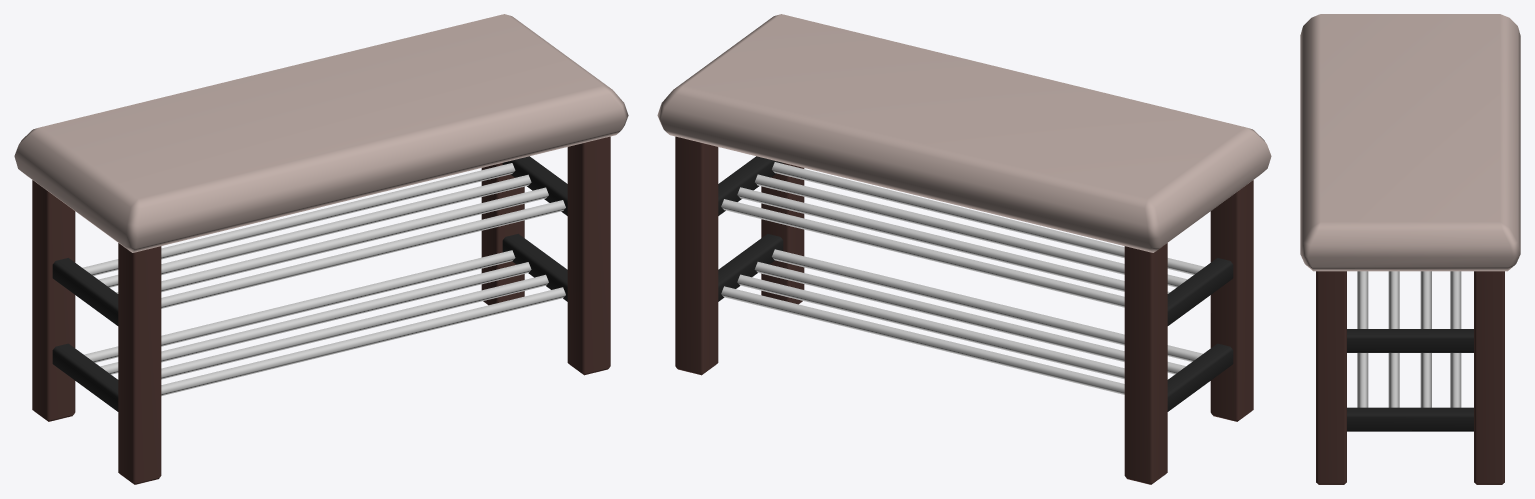
Rendered from chair_056.fbx.
3 renders of one model, left to right at view 1: azimuth 30°, elevation 25°; view 2: azimuth 150°, elevation 25°; view 3: azimuth 270°, elevation 25°, orthographic. The views are drawn at different scales.
Parts seen in each view (by area): view 1: chair_056; view 2: chair_056; view 3: chair_056.
Part boxes in pixels (<box>): chair_056: <box>14,14,628,484</box>; chair_056: <box>657,14,1271,484</box>; chair_056: <box>1300,14,1520,484</box>.
Bounding box in the file's own units: 114 × 47.28 × 61.82.
